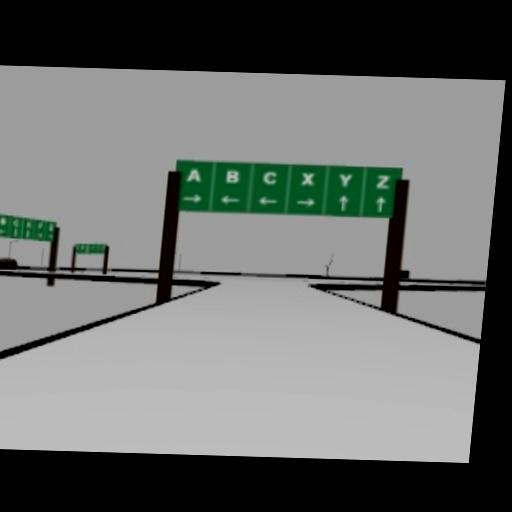A: (185, 167, 202, 181)
B: (225, 169, 241, 184)
C: (258, 166, 284, 187)
Left: (257, 195, 279, 204), (221, 195, 240, 204)
Right: (182, 192, 202, 202), (297, 197, 316, 206)
Straight: (338, 194, 349, 211), (375, 195, 386, 212)
X: (296, 166, 317, 187)
Y: (338, 172, 353, 186)
Z: (374, 169, 391, 191)
